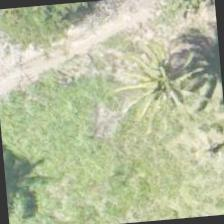Kelapa_Sawit: (122, 42, 220, 140)
